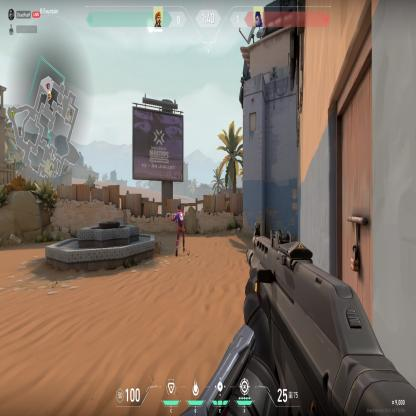enemy: (172, 206, 187, 260)
